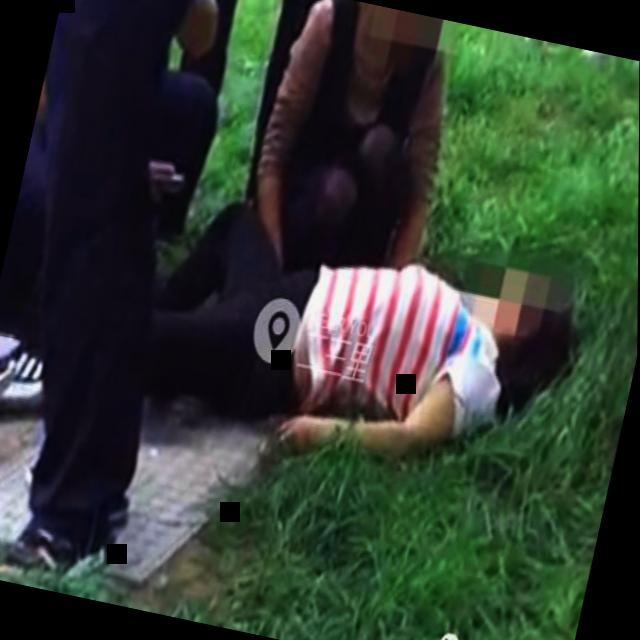Fall-Detected: (98, 159, 588, 517)
